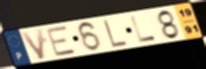6: (78, 20, 105, 54)
8: (155, 8, 181, 41)
E: (45, 25, 79, 58)
L: (101, 19, 130, 49), (129, 15, 158, 44)
V: (19, 27, 46, 61)
